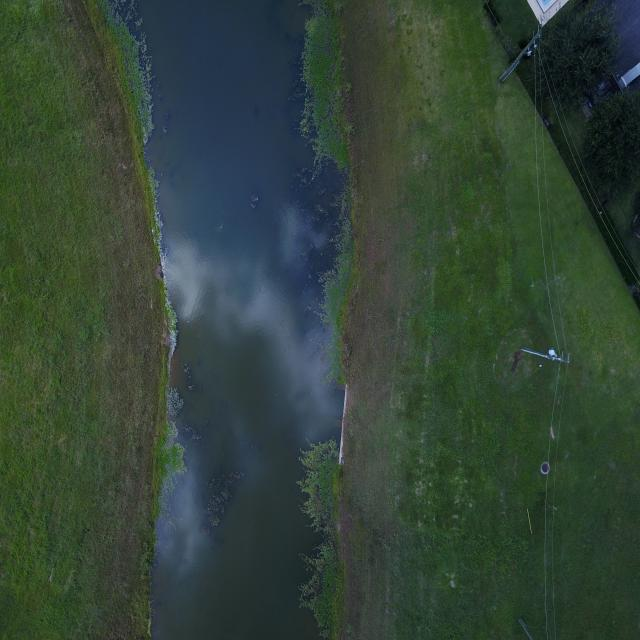fire: (135, 0, 344, 639)
